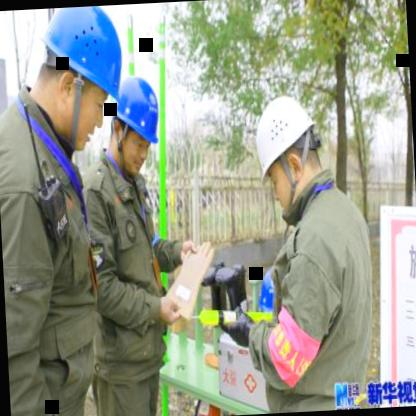helmet: (22, 4, 132, 153), (242, 84, 330, 222), (102, 65, 166, 178)
